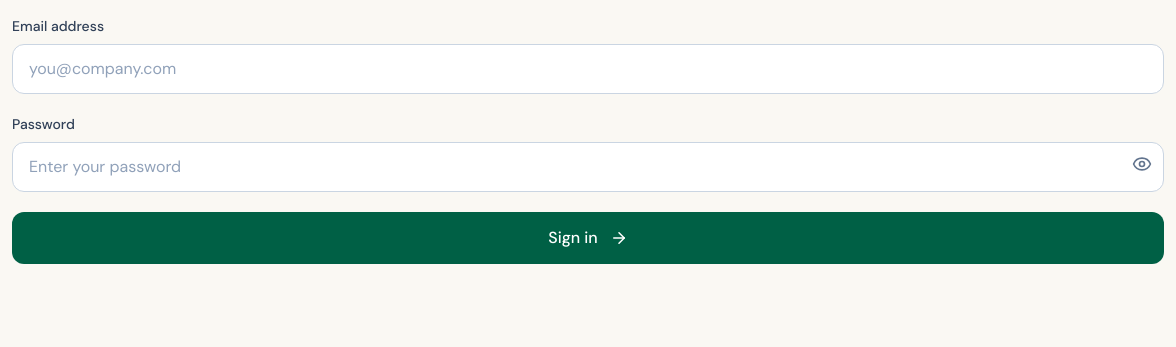
Scenario: login interface › shows backend errors in an accessible alert
This screenshot has width=1176, height=347.
Type "owner@example.com" into the field labelled "Email address".
click(588, 69); type("owner@example.com")  # box left=12, top=44, right=1164, bottom=94
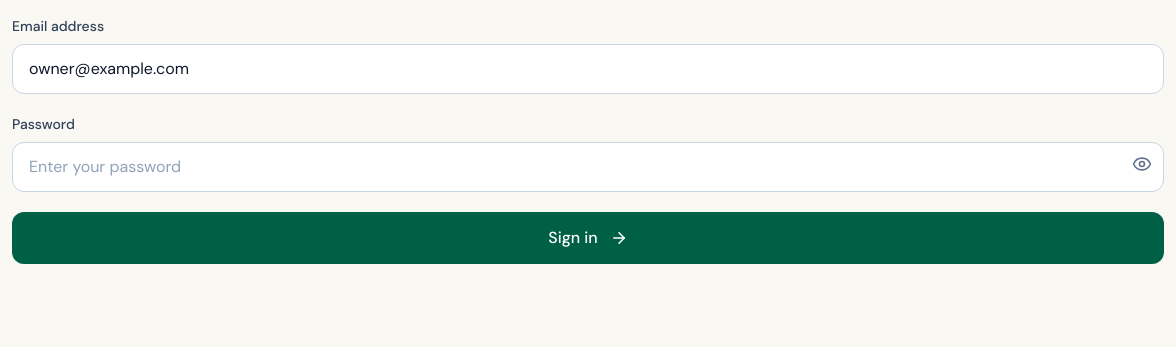
Type "wrong" into the password field labelled "Password".
click(588, 167); type("wrong")  # box left=12, top=142, right=1164, bottom=192
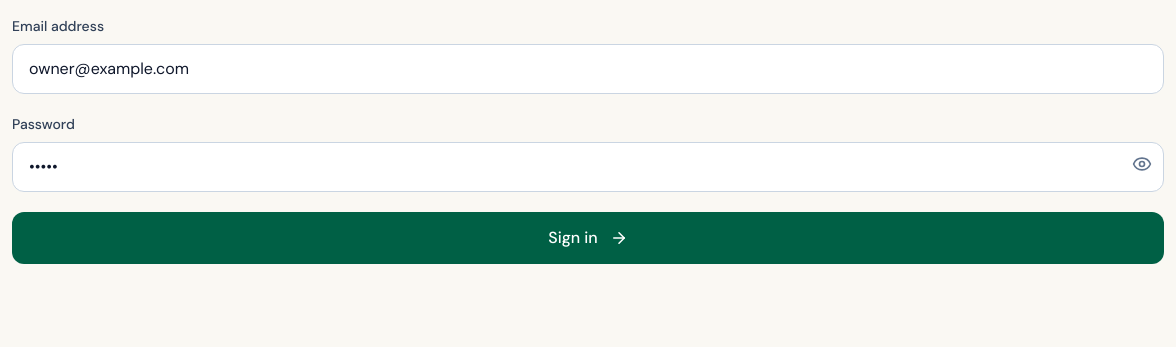
Submit the form "Sign in"
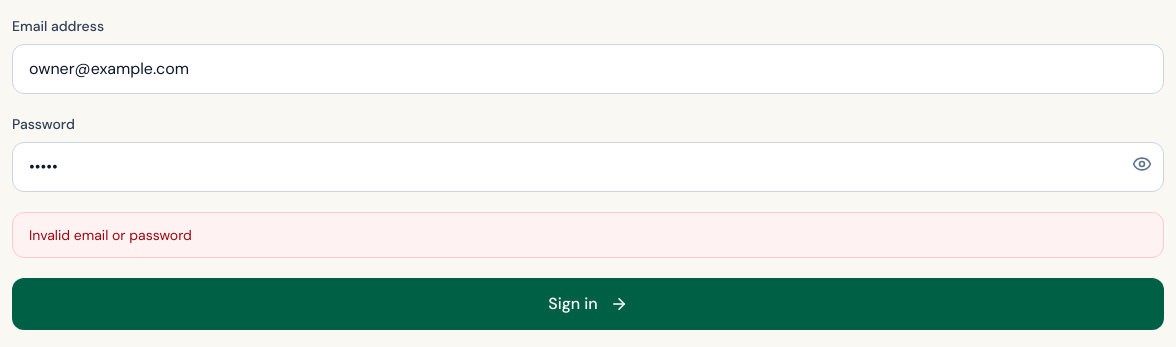
Expected: the message reads "Invalid email or password", left=29, top=226, right=192, bottom=244
